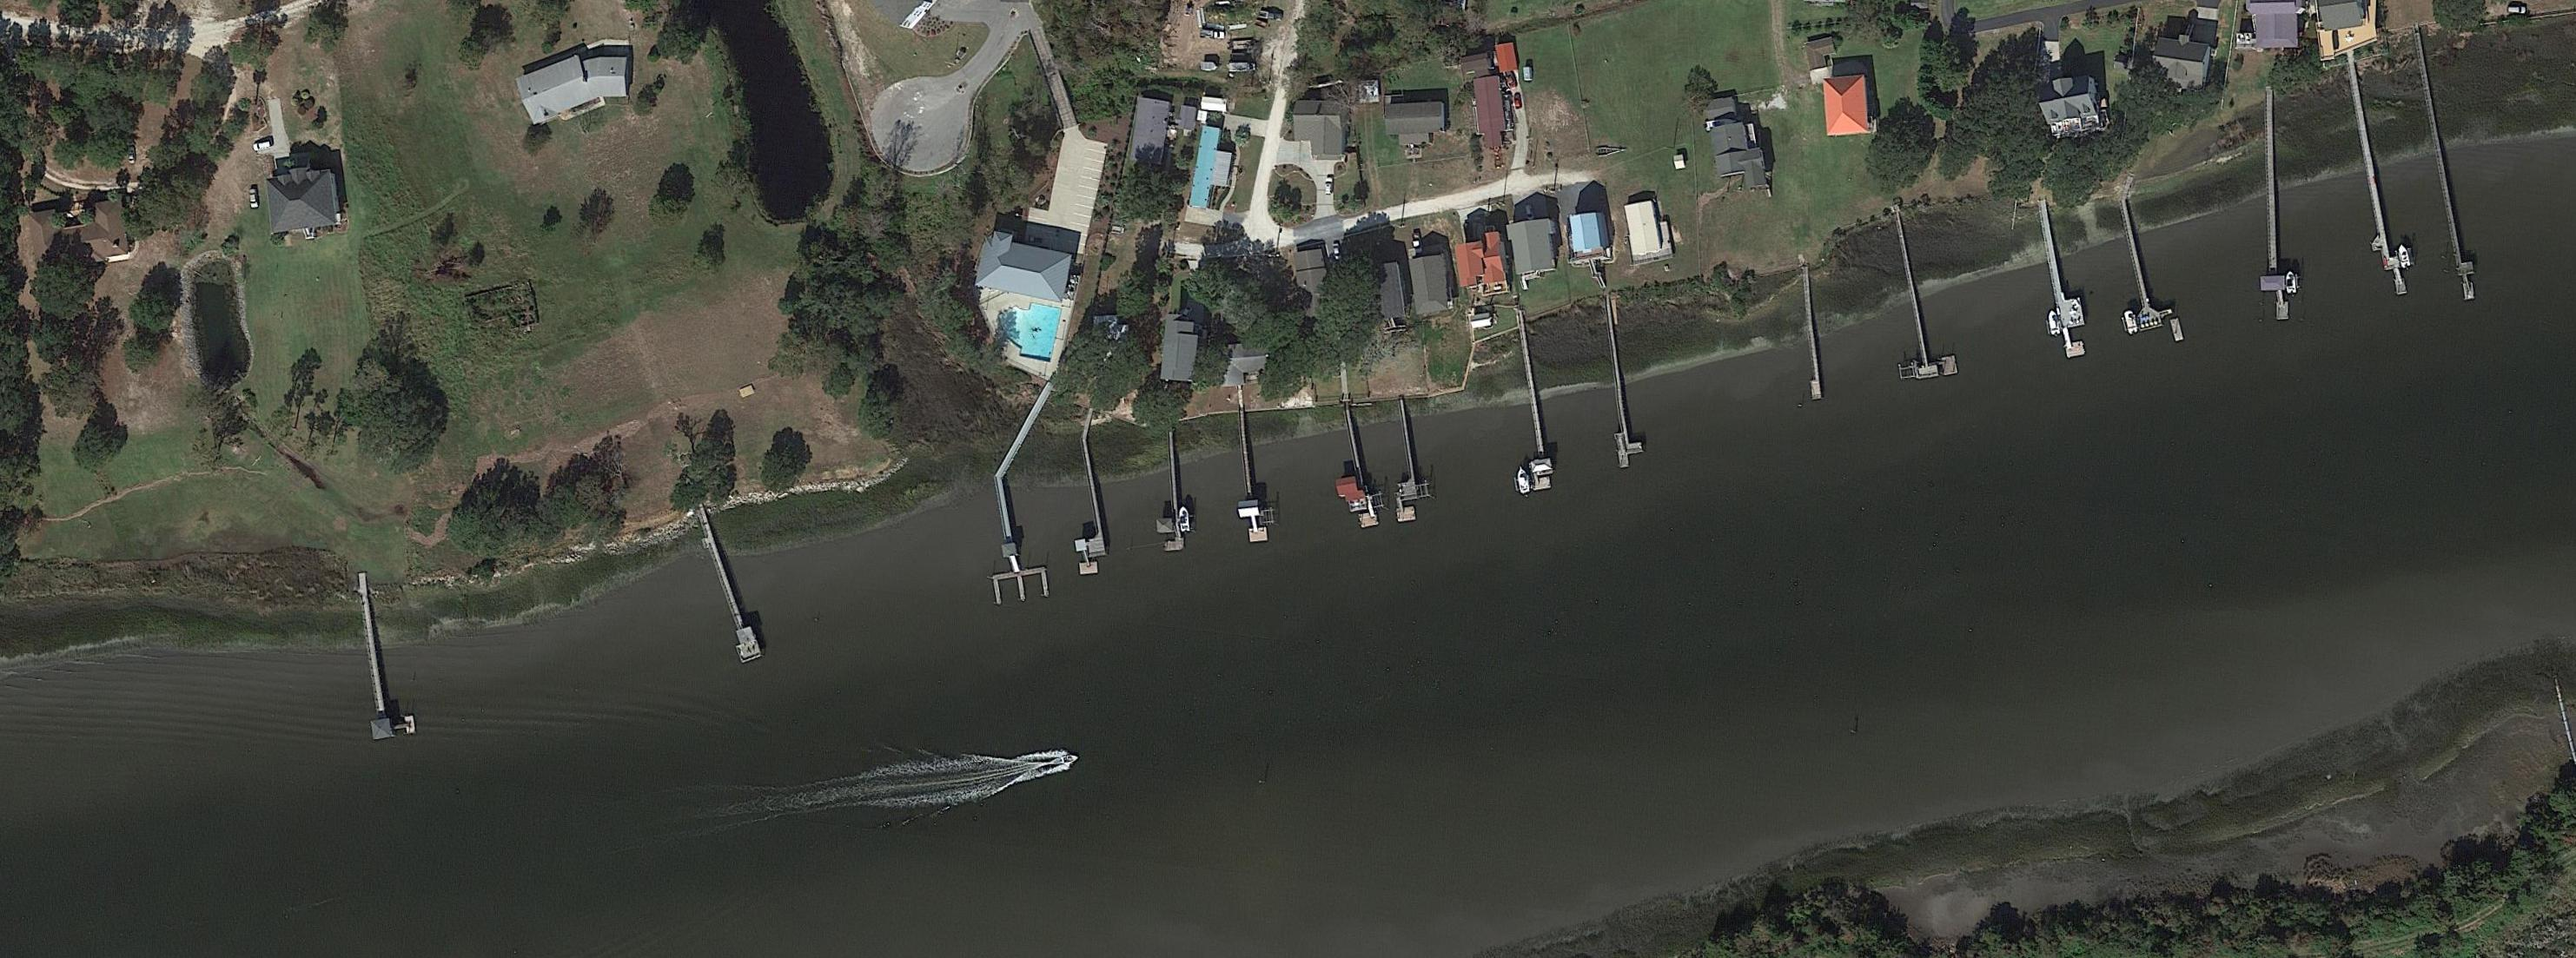harbor: (2417, 53, 2479, 301), (2351, 76, 2417, 297), (1886, 222, 1958, 383), (693, 514, 762, 664), (976, 468, 1051, 605), (353, 596, 416, 741), (1506, 327, 1554, 490), (1600, 304, 1646, 468), (2040, 214, 2091, 358), (1060, 437, 1109, 577), (2113, 205, 2164, 332), (2257, 117, 2288, 320), (1324, 414, 1378, 531), (1229, 417, 1270, 546), (1382, 406, 1424, 523), (1152, 444, 1184, 552), (1799, 281, 1824, 401)
ship: (2045, 309, 2062, 339), (2123, 307, 2139, 334), (2395, 245, 2412, 269), (1178, 506, 1191, 536), (1516, 467, 1529, 495), (2285, 269, 2297, 296), (1061, 751, 1079, 766)
